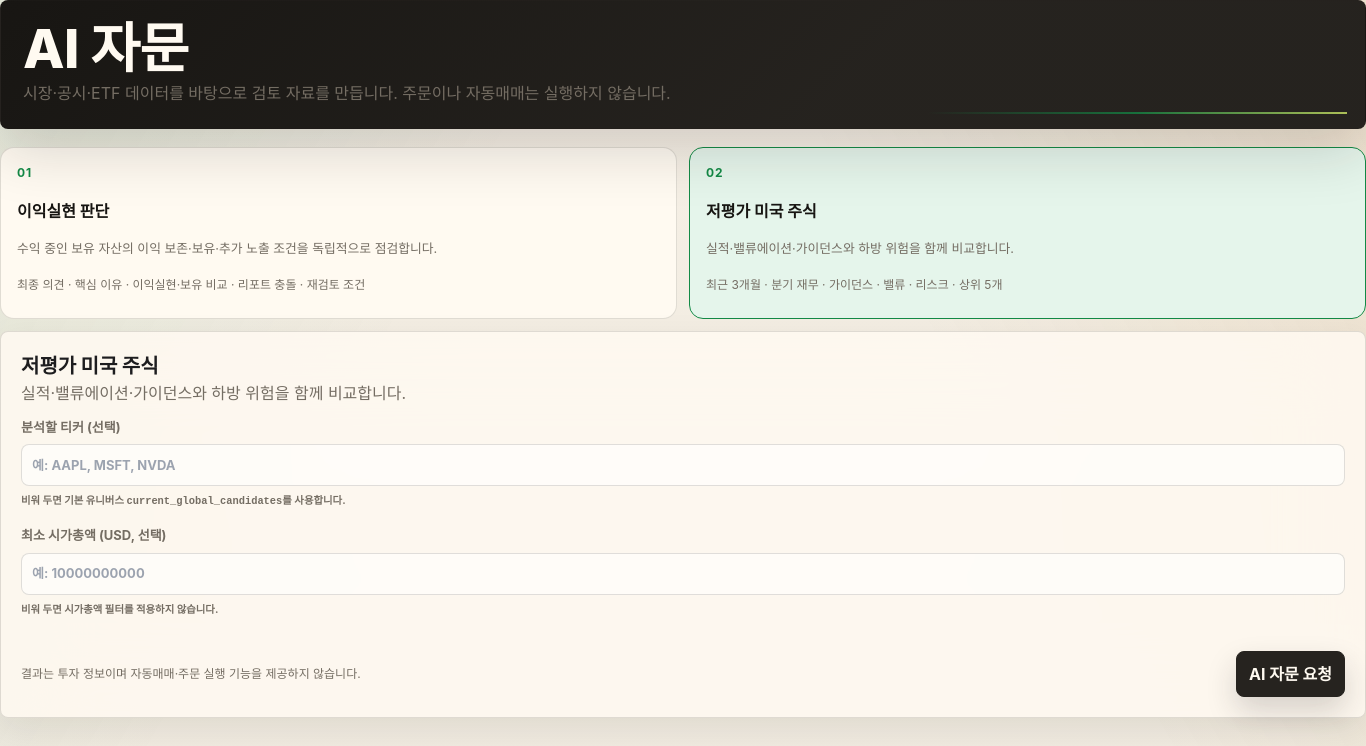
Advisory page › maps failed job error code unsupported_analysis to Korean guidance
Expected: the button "AI 자문 요청" is enabled, 1236,651 -> 1345,697
Type "aapl" into the field with placeholder "예: AAPL, MSFT, NVDA" at (683, 465), box 21,444 -> 1345,486
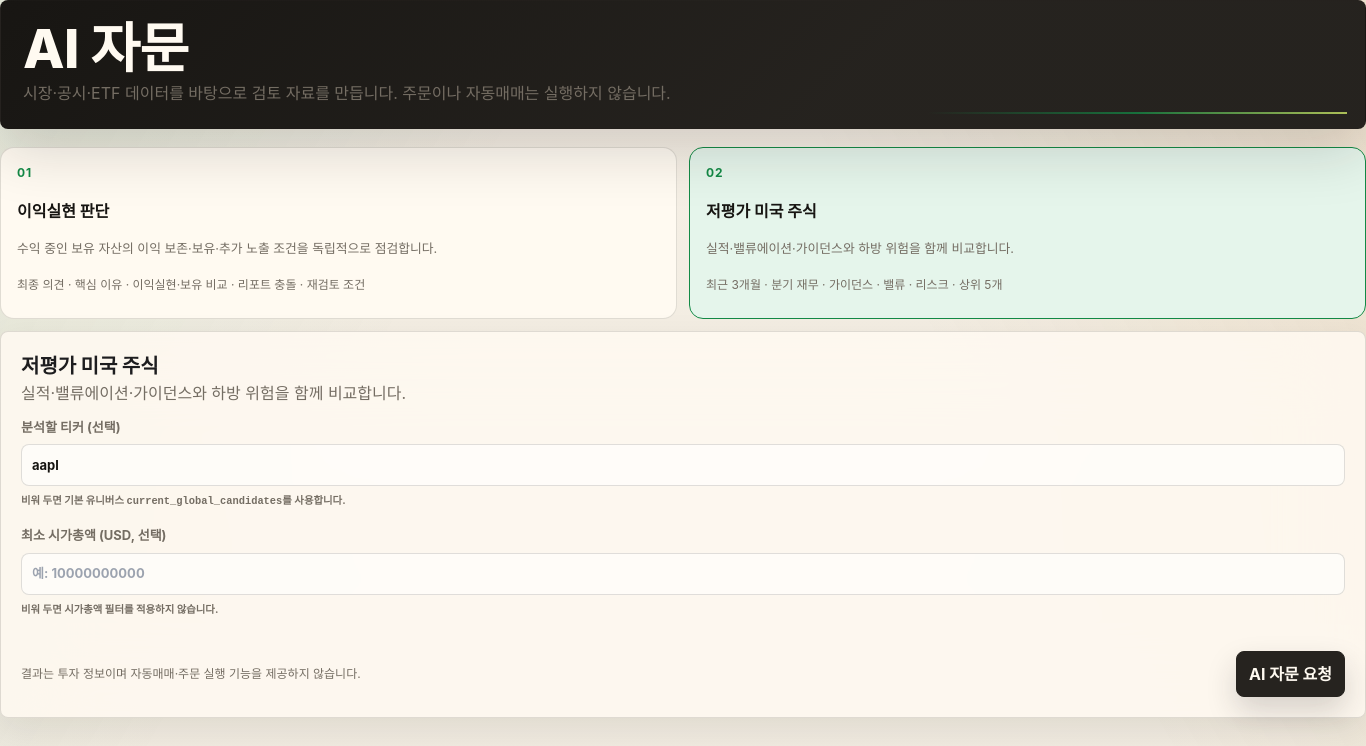
Click the button "AI 자문 요청" at (1291, 674), box 1236,651 -> 1345,697
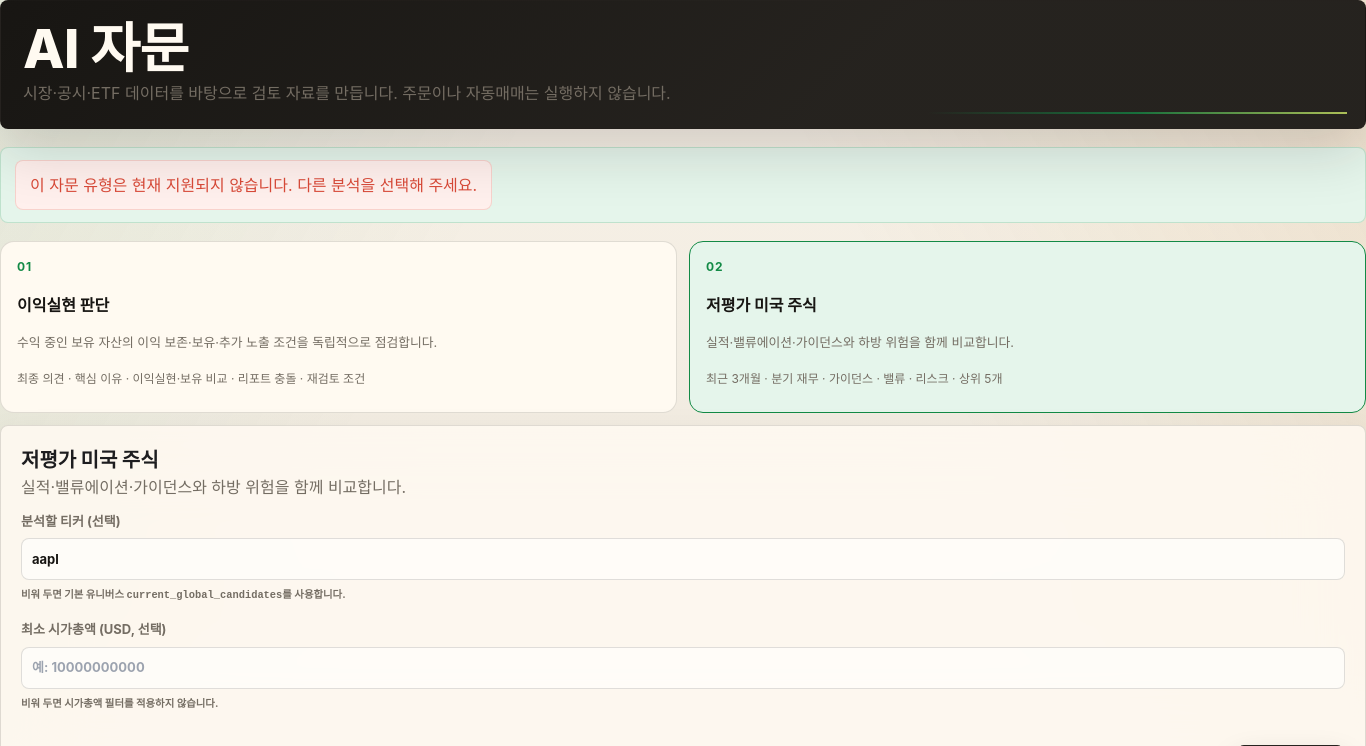
Result: the text "이 자문 유형은 현재 지원되지 않습니다. 다른 분석을 선택해 주세요." is shown at 15,160 -> 492,210
